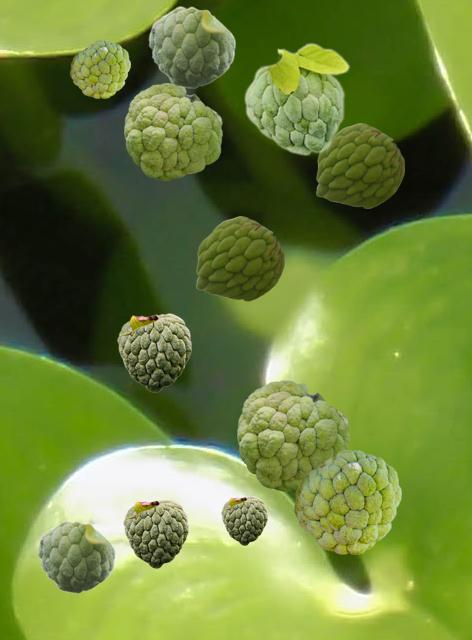atis: (237, 380, 348, 490), (243, 42, 349, 155), (294, 450, 400, 553), (124, 83, 221, 179), (316, 123, 403, 207), (196, 216, 283, 300), (148, 6, 235, 87), (117, 313, 190, 391), (37, 520, 115, 592), (123, 499, 187, 567), (70, 40, 129, 97), (221, 496, 266, 544)
